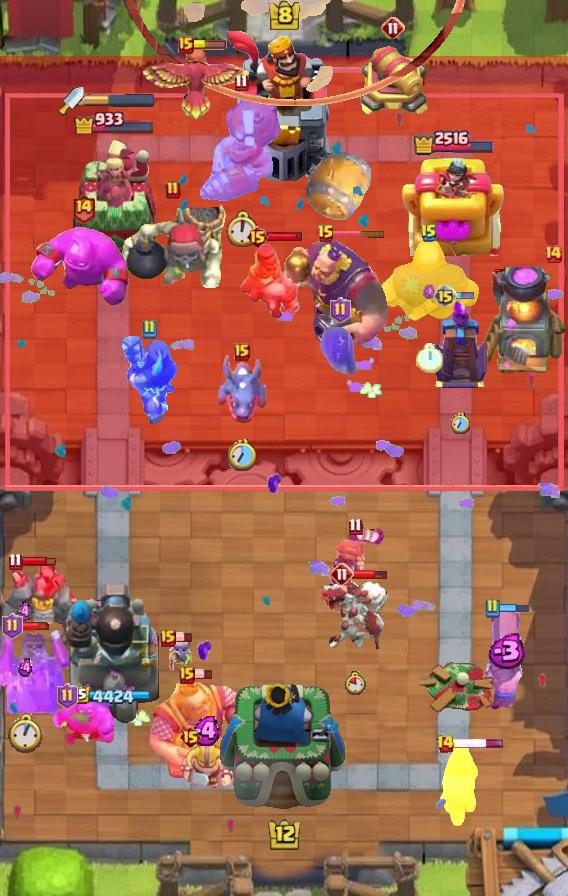balloon: (376, 238, 482, 328)
bar: (70, 138, 158, 256)
battle-healer: (482, 607, 528, 711)
cannoneer-tower: (0, 559, 94, 655)
clone: (29, 226, 137, 308)
dirt: (305, 146, 375, 222)
electro-giant: (117, 194, 229, 304)
electro-spirit: (483, 633, 527, 669), (193, 716, 223, 746), (17, 601, 31, 623), (19, 658, 34, 678), (423, 284, 436, 300)
elite-barbarian: (239, 242, 303, 322), (437, 745, 479, 827)
elixir: (9, 713, 44, 754), (225, 209, 257, 246), (227, 439, 256, 471), (416, 343, 443, 373), (346, 671, 367, 695), (450, 413, 469, 434)
emote: (451, 738, 504, 749), (352, 567, 388, 581), (332, 230, 386, 239), (20, 555, 55, 567), (267, 231, 304, 242), (191, 40, 227, 50), (498, 602, 530, 613), (20, 621, 52, 631), (194, 668, 214, 679), (175, 633, 194, 644), (455, 291, 475, 301)
giant-skeleton: (145, 679, 256, 781)
goblin: (164, 634, 196, 676)
goblin-giant: (180, 742, 234, 790)
golden-knight: (141, 46, 253, 124)
graveyard: (215, 353, 269, 425)
hunter: (480, 267, 568, 377)
ice-spirit-evolution-symbol: (430, 298, 490, 390)
inferno-dragon: (120, 330, 178, 424)
king-tower: (219, 678, 349, 826), (223, 31, 345, 181)
king-tower-bar: (84, 93, 156, 107)
lightning: (280, 235, 391, 347)
mini-pekka: (319, 579, 391, 649)
queen-tower: (401, 156, 505, 256)
royal-ghost: (123, 0, 469, 108)
royal-recruit: (357, 45, 429, 119)
selected: (413, 128, 496, 156), (72, 108, 155, 134), (73, 686, 155, 707)
skeleton-king-bar: (0, 626, 74, 714)
spear-goblin: (320, 327, 360, 375)
tesla-evolution: (326, 524, 384, 598)
text: (71, 193, 96, 224), (381, 16, 405, 40), (433, 284, 457, 308), (330, 562, 354, 586), (246, 225, 269, 249), (178, 725, 201, 749), (330, 297, 351, 323), (2, 613, 23, 639), (57, 683, 78, 709), (543, 244, 563, 264), (436, 734, 455, 754), (420, 223, 438, 243), (317, 224, 335, 244), (165, 180, 181, 200), (141, 319, 157, 339), (484, 598, 500, 618), (178, 36, 194, 54), (234, 343, 250, 361), (160, 629, 176, 647), (179, 666, 195, 684), (349, 517, 364, 536), (234, 73, 249, 91), (9, 553, 23, 571)
tornado: (50, 697, 114, 747)
tower-bar: (63, 579, 165, 731)
wizard: (198, 92, 284, 202)
